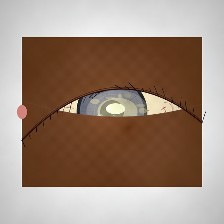corneal_ulcer: (85, 86, 150, 138)
